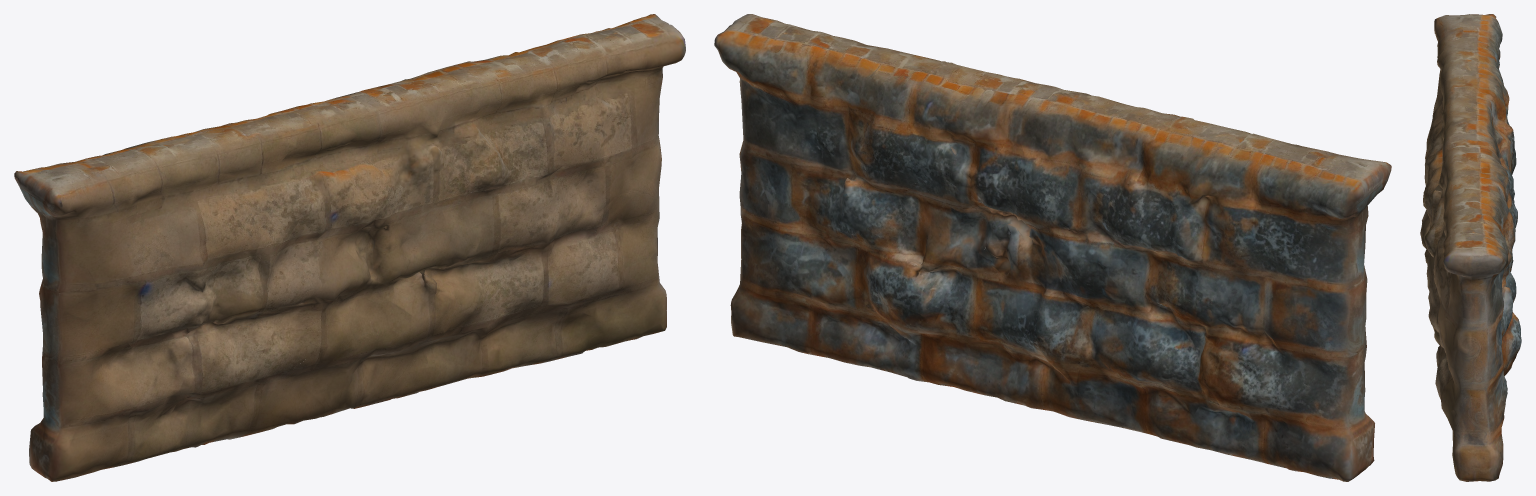
The model's file is wall.glb.
3 renders of one model, left to right at view 1: azimuth 30°, elevation 25°; view 2: azimuth 150°, elevation 25°; view 3: azimuth 270°, elevation 25°, orthographic. The views are drawn at different scales.
Parts seen in each view (by area): view 1: file1; view 2: file1; view 3: file1.
Boxes of the visible parts, bbox=[...] form: file1: bbox=[14, 14, 685, 481]; file1: bbox=[714, 14, 1391, 481]; file1: bbox=[1420, 14, 1521, 481].
Size of the model in its own units: 1.2 by 0.5531 by 0.2113.
Materials: 1 (1 with a texture image).
